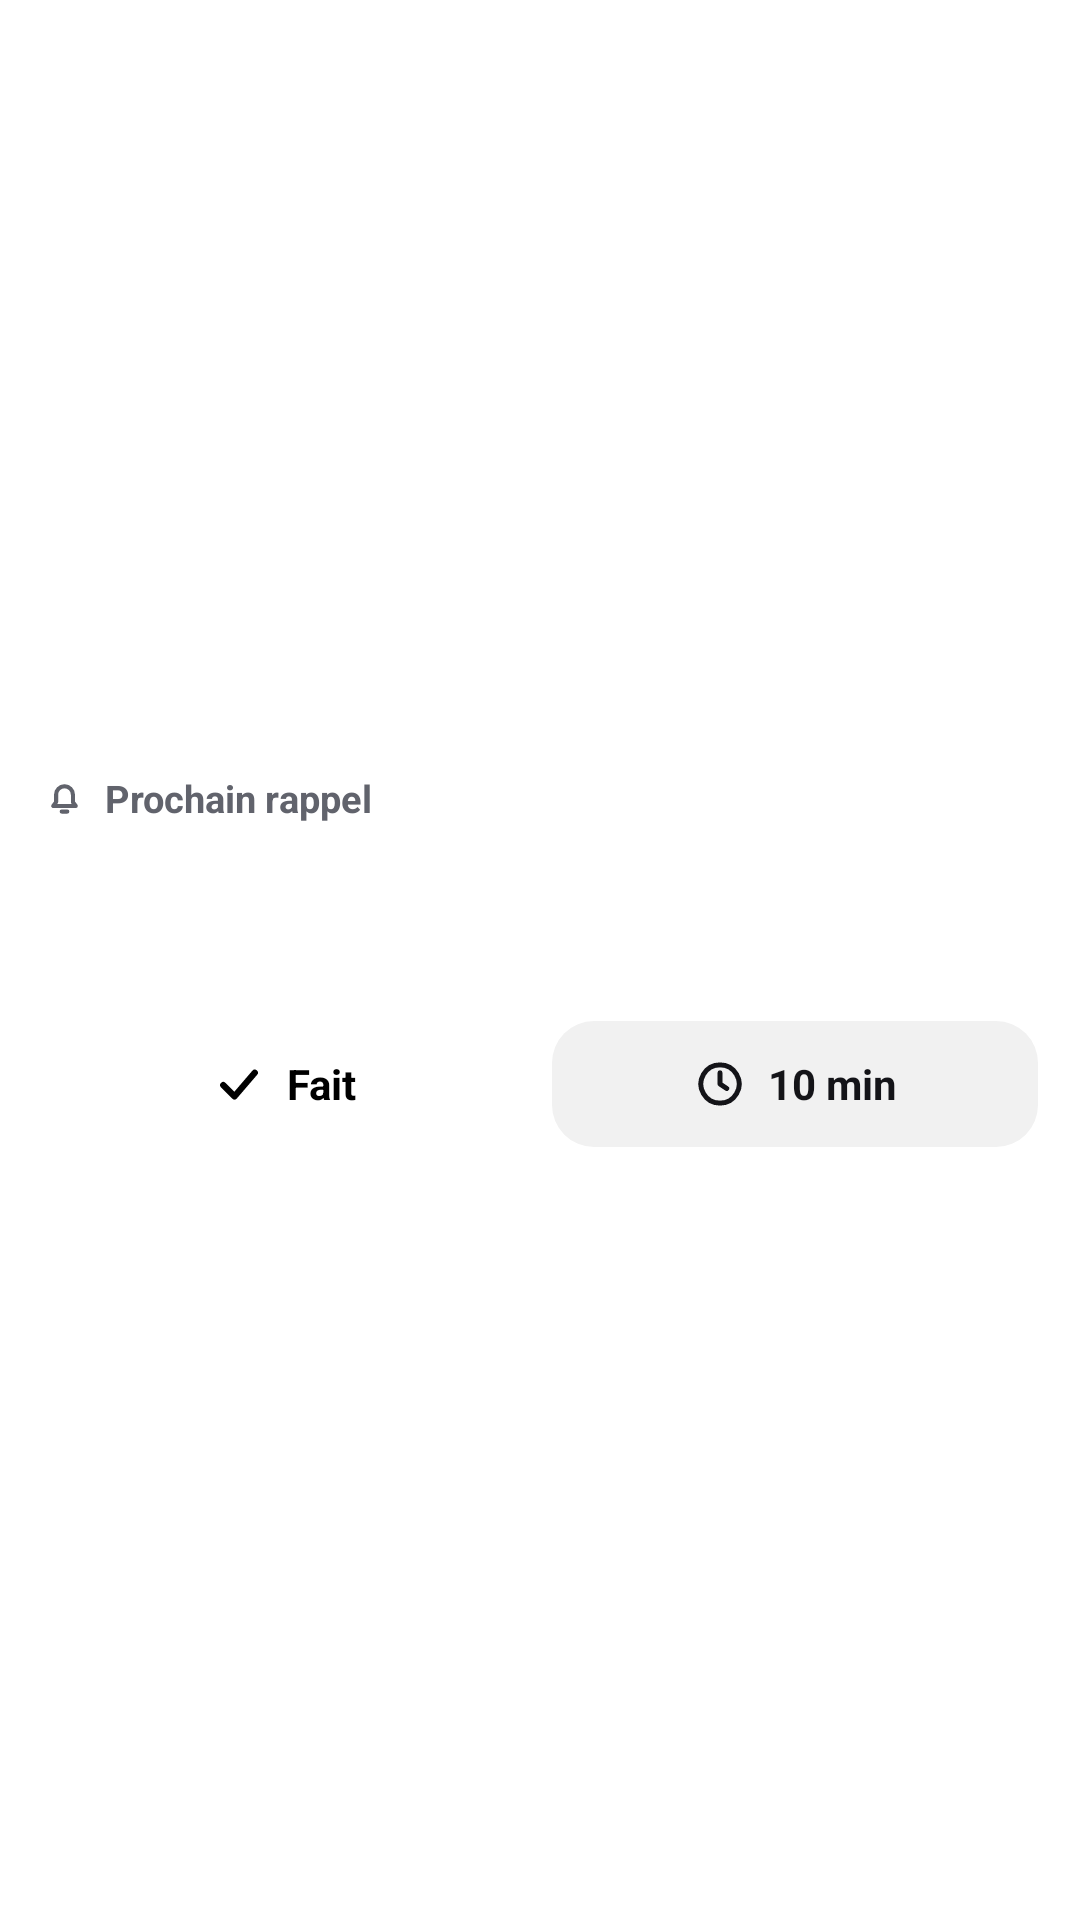

Icon bounding boxes for this 1080 x 1920 phone screenshot, format (x1, y1, x2, y2):
check: (220, 1069, 258, 1100)
snooze: (698, 1062, 742, 1106)
